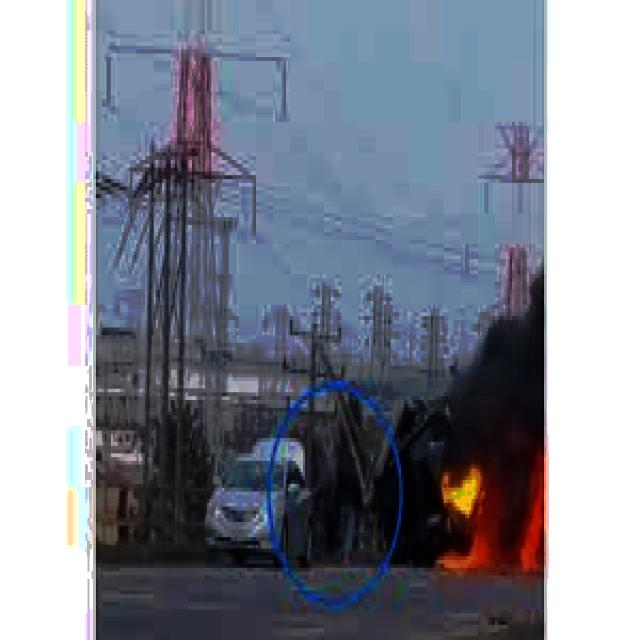api: (440, 417, 541, 592)
